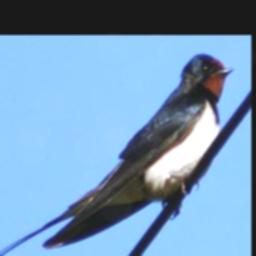Swallow: (0, 52, 235, 256)
